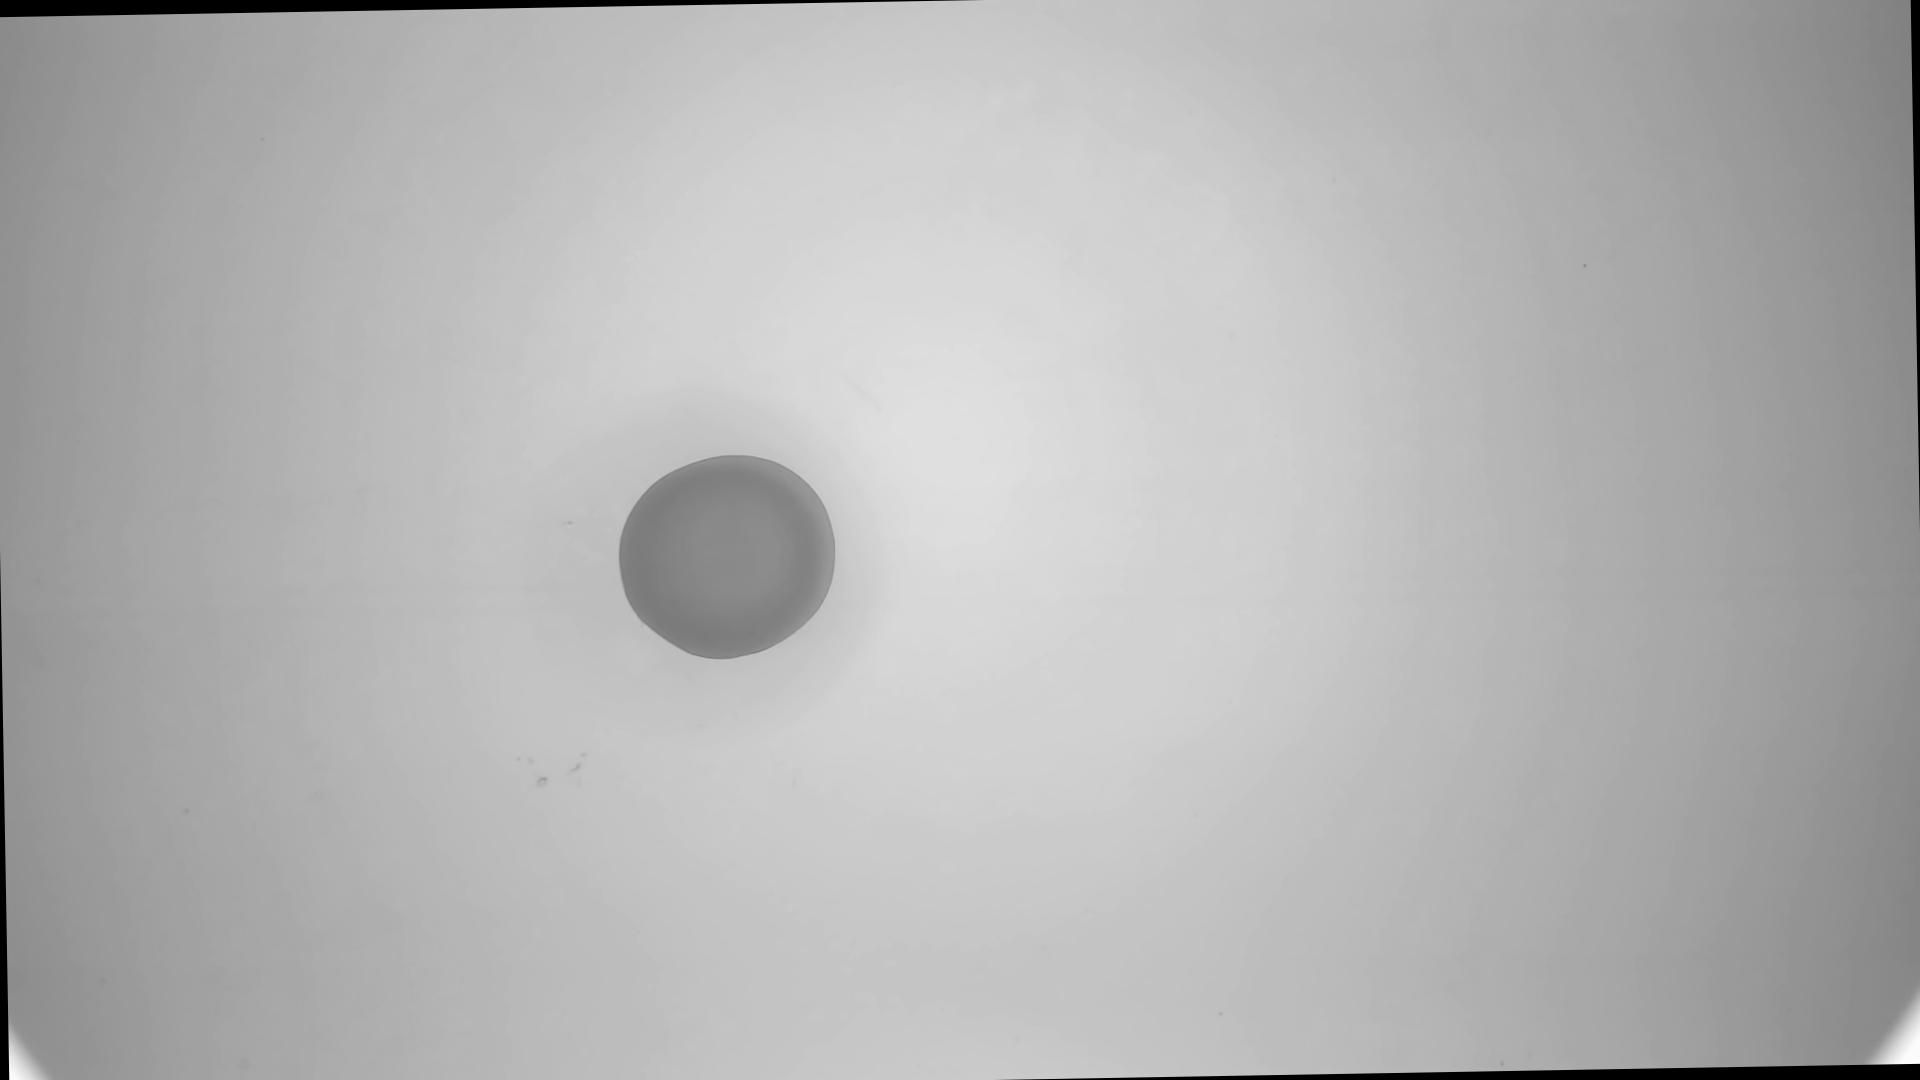normal: (615, 450, 843, 665)
